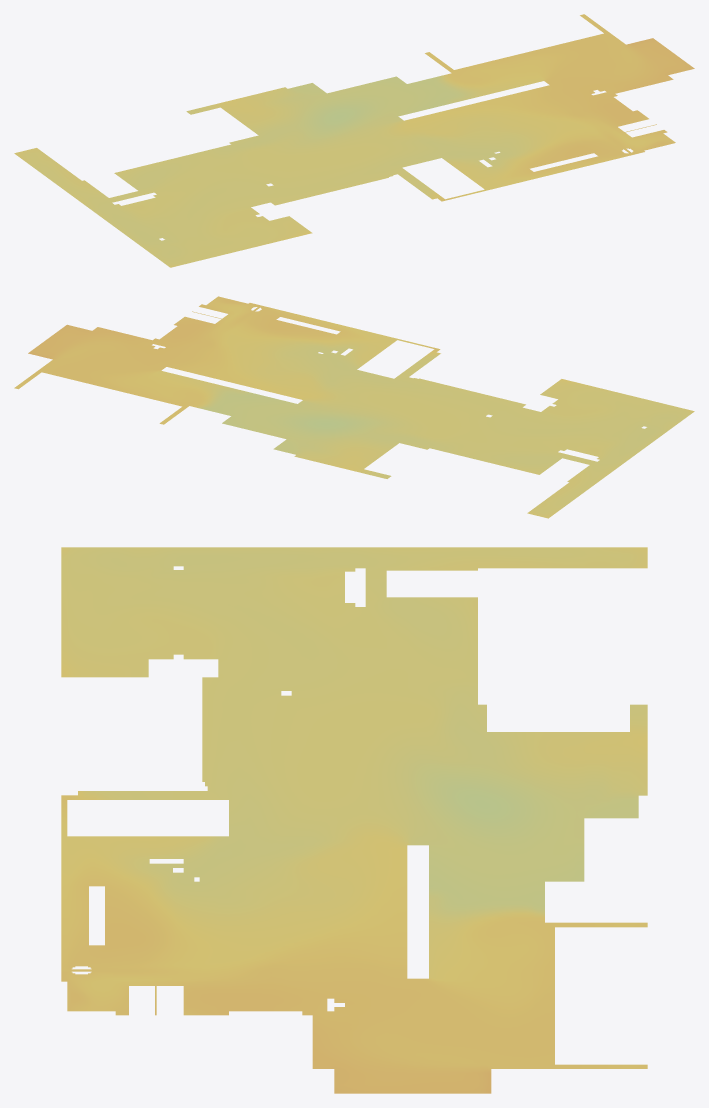
File: A_temperature_z0.6.glb
The picture shows the model from 3 angles, top to bottom: view 1: azimuth 30°, elevation 25°; view 2: azimuth 150°, elevation 25°; view 3: azimuth 270°, elevation 25°; orthographic projection. The views are drawn at different scales.
Bounding box in the file's own units: 7.18 × 0 × 3.26.
